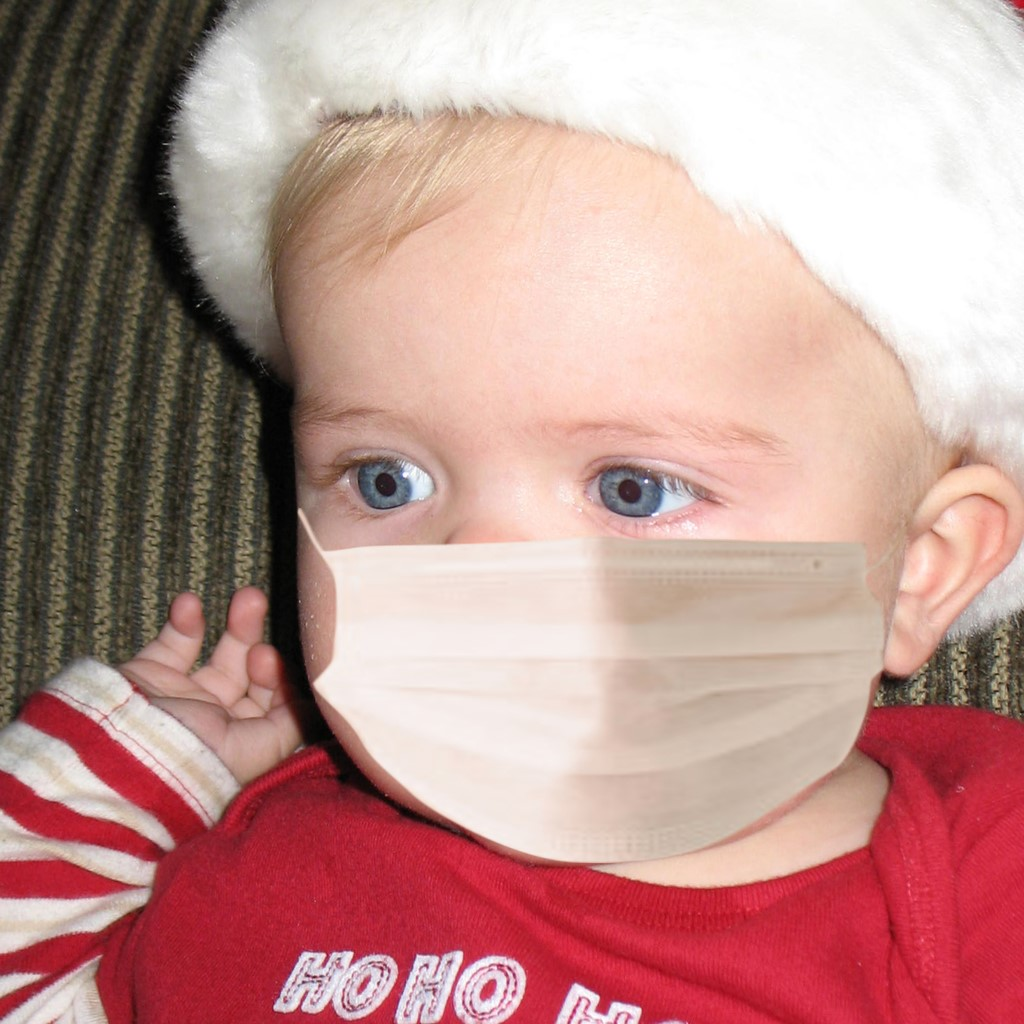con_mascara: (246, 108, 946, 861)
